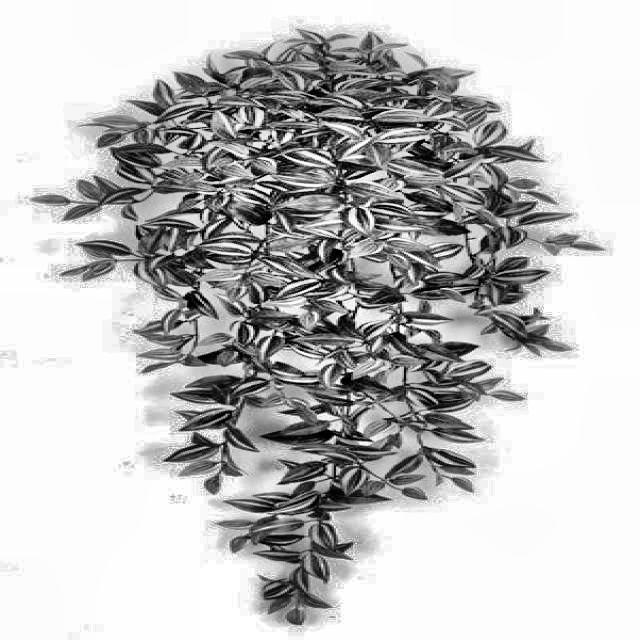plants: (28, 19, 608, 620)
